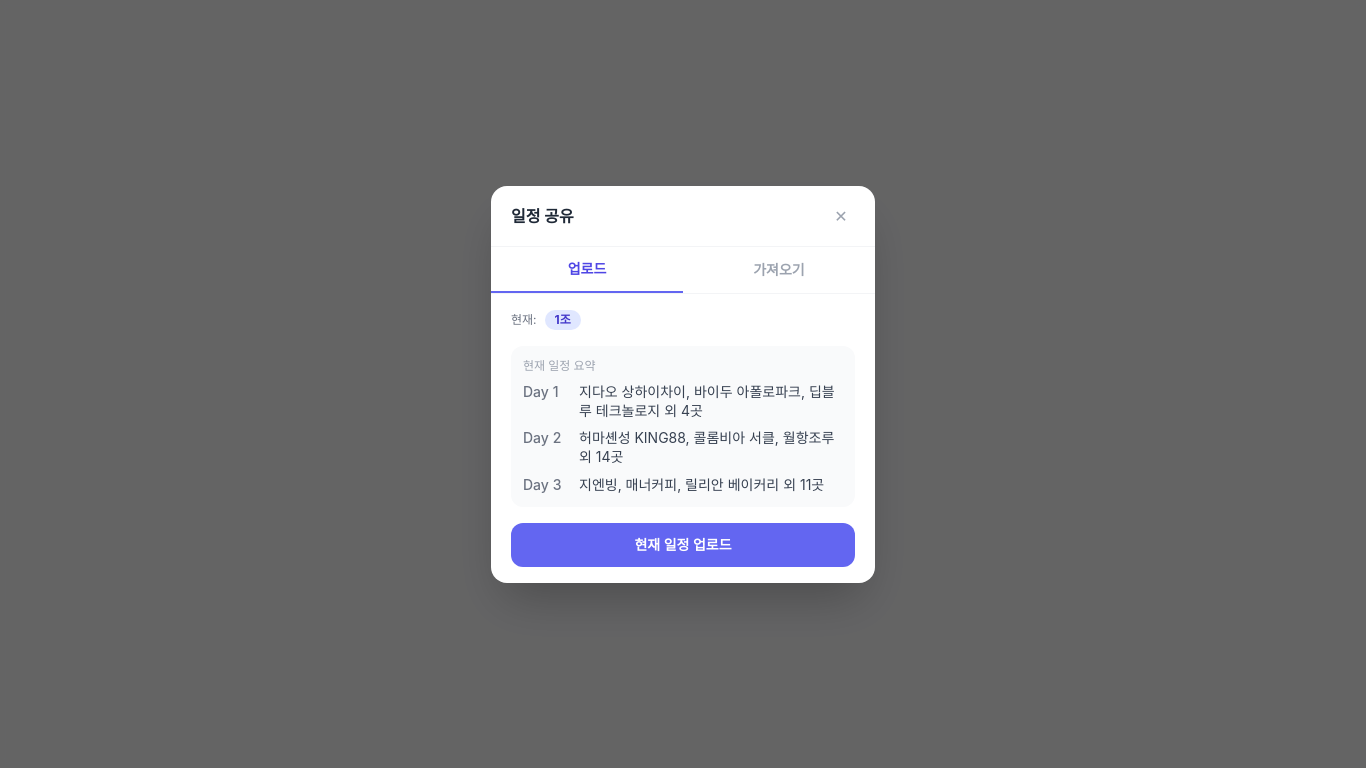
it: ShareScheduleModal 컴포넌트 › 업로드 성공 시 완료 메시지가 표시된다
Step 1. Click the button "현재 일정 업로드" → click(683, 544), box [511,522,855,566]
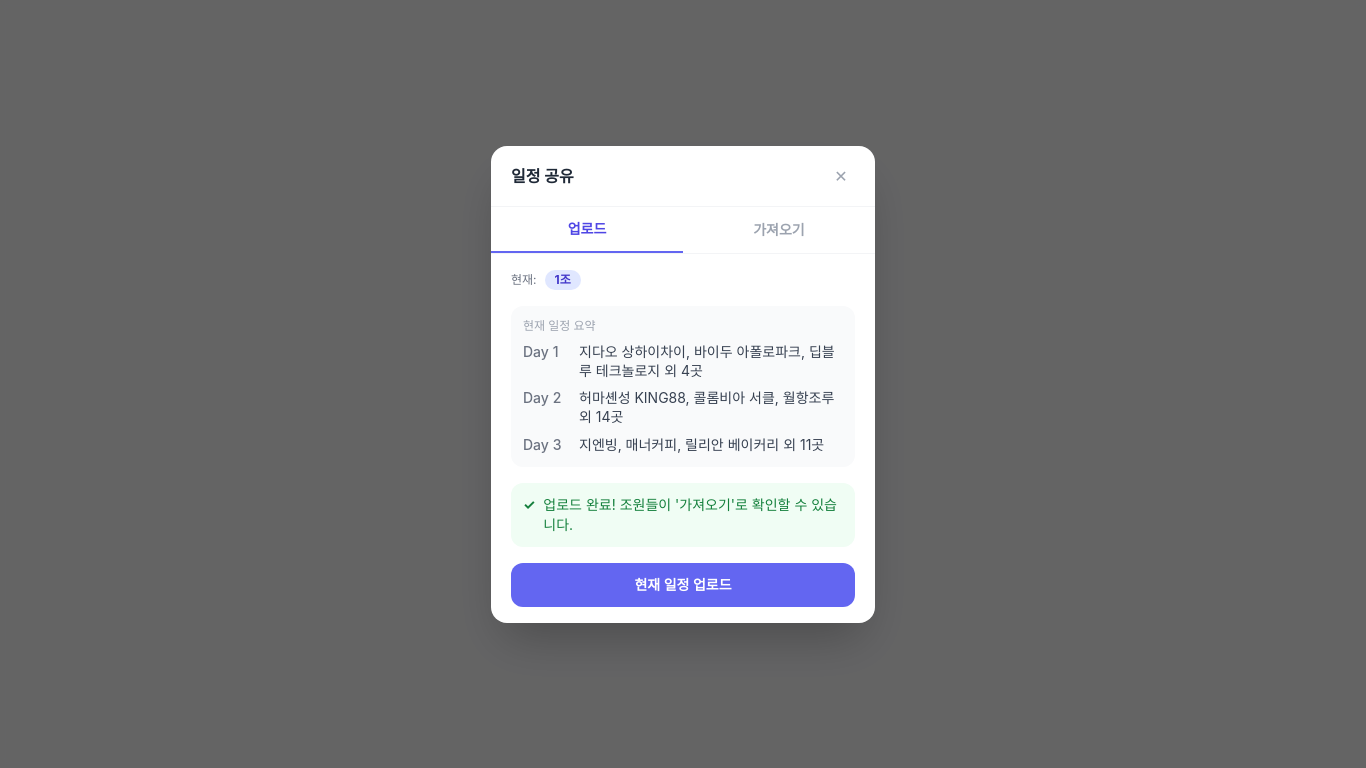
Expected: the text "업로드 완료! 조원들이 '가져오기'로 확인할 수 있습니다." is shown, [543,494,843,534]
